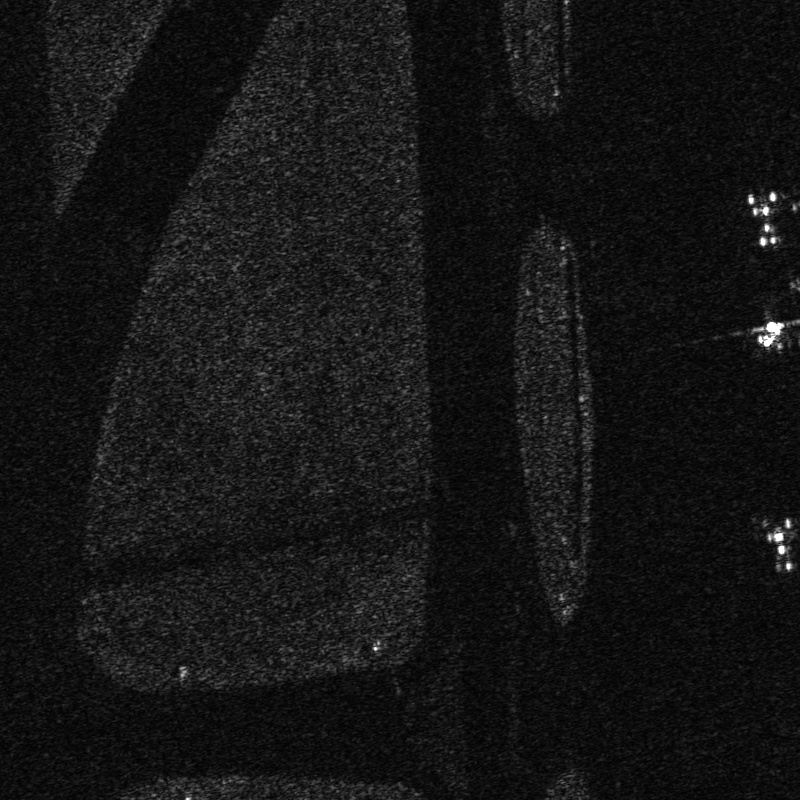ARJ21: (738, 303, 799, 357)
other: (732, 184, 799, 252)
